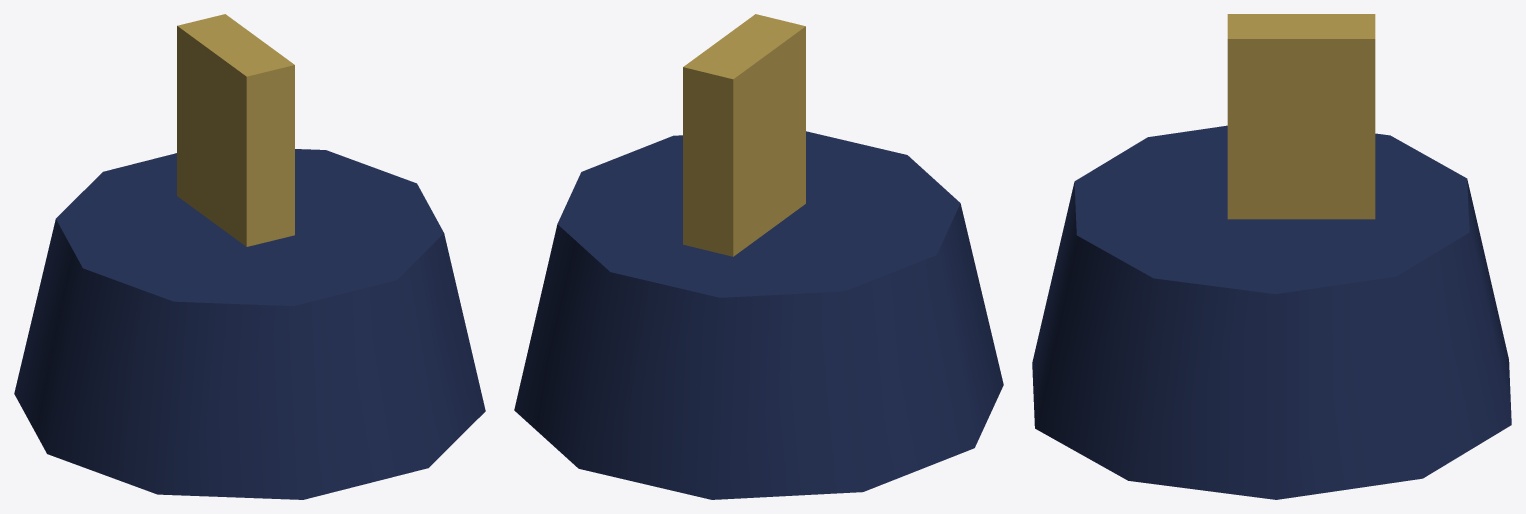
File: head.glb
The picture shows the model from 3 angles, left to right: view 1: azimuth 30°, elevation 25°; view 2: azimuth 150°, elevation 25°; view 3: azimuth 270°, elevation 25°; orthographic projection. The views are drawn at different scales.
Parts seen in each view (by area): view 1: helmet, crest; view 2: helmet, crest; view 3: helmet, crest.
Boxes of the visible parts, <box> form: helmet: <box>14,149,485,499</box>; crest: <box>177,14,294,246</box>; helmet: <box>514,131,1003,499</box>; crest: <box>683,14,805,256</box>; helmet: <box>1032,125,1511,499</box>; crest: <box>1227,14,1375,219</box>.
Size of the model in its own units: 0.6799 by 0.55 by 0.6503.
